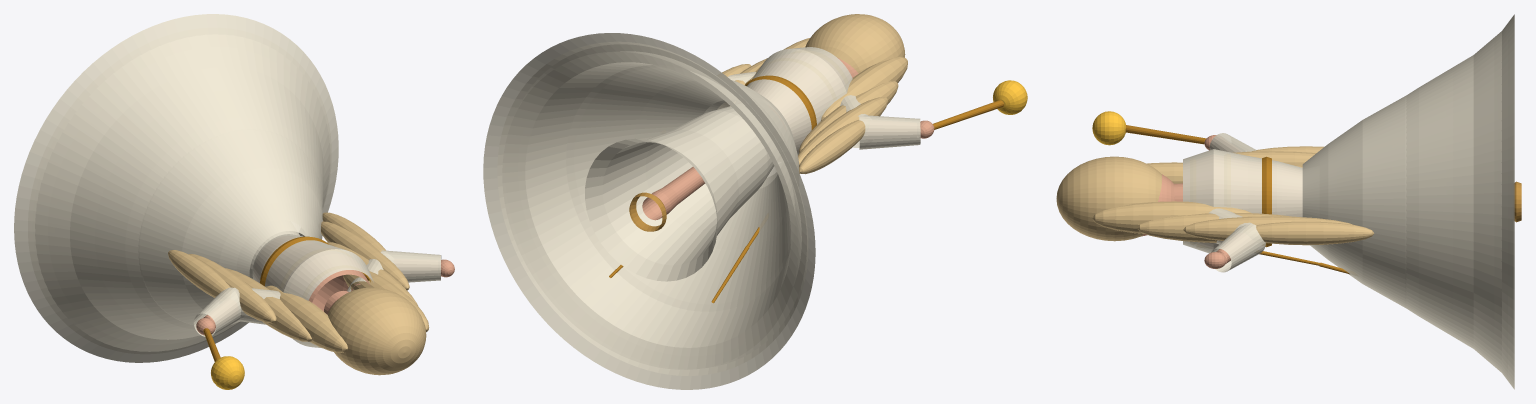
Rendered from celestial_sorceress_full_body.obj.
3 renders of one model, left to right at view 1: azimuth 30°, elevation 25°; view 2: azimuth 150°, elevation 25°; view 3: azimuth 270°, elevation 25°, orthographic. The views are drawn at different scales.
Size of the model in its own units: 2.22 by 2.2 by 2.72.
